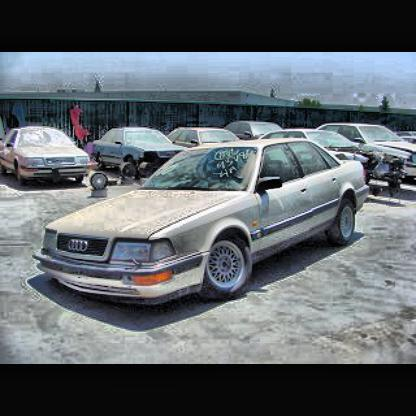Audi V8 Sedan 1994: (34, 141, 372, 303)
